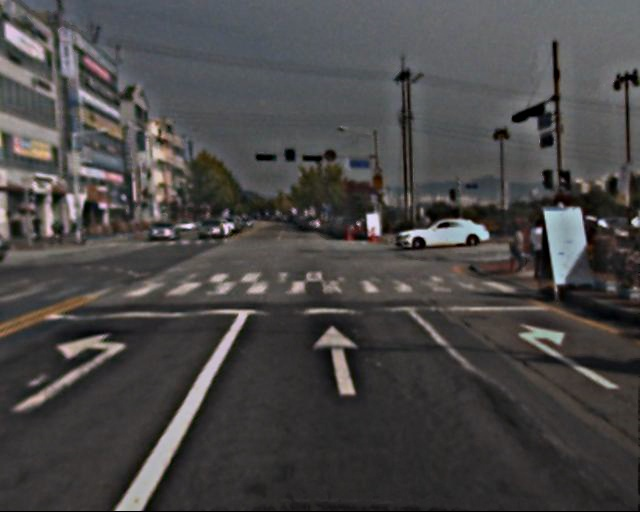person: (520, 216, 552, 278), (503, 222, 526, 278)
